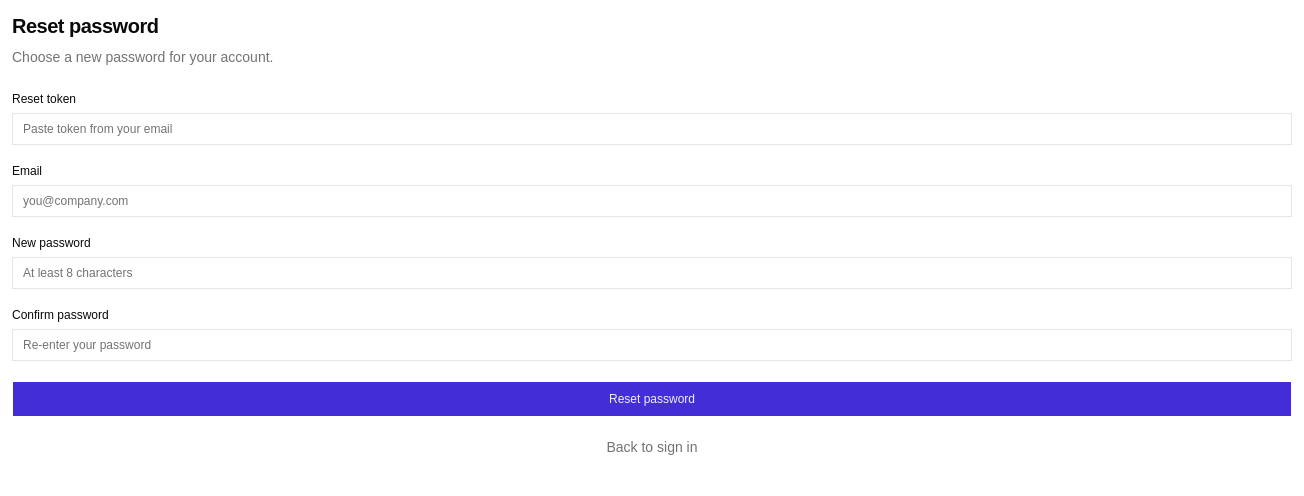
ResetPasswordPage › shows validation error when passwords do not match
Type "reset-token" into the field labelled "Reset token" at [652, 129], box [12,113,1292,145]
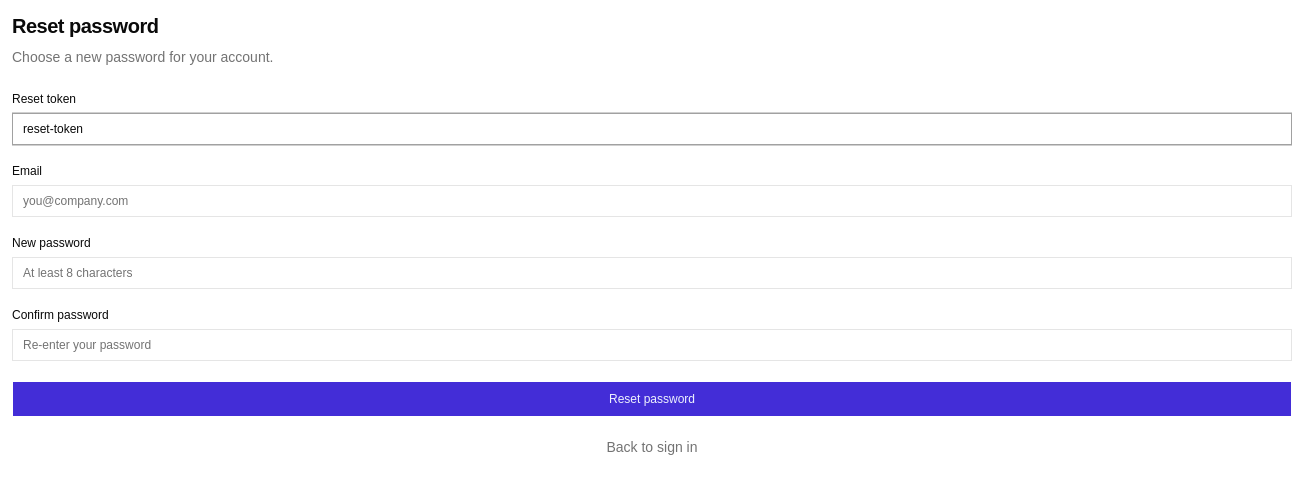
Type "jane@example.com" into the field labelled "Email" at [652, 201], box [12,185,1292,217]
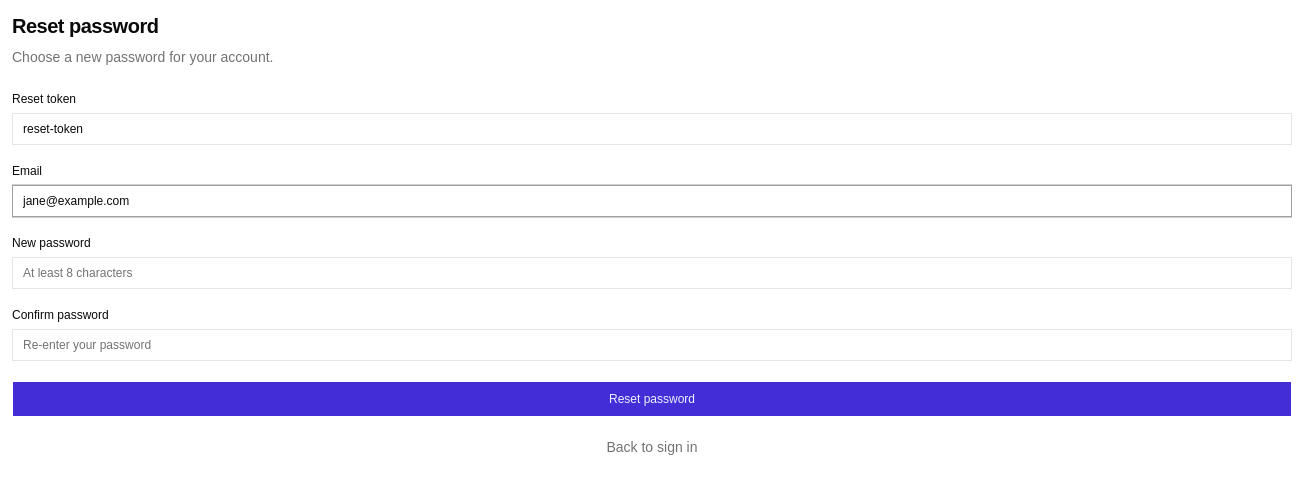
Type "password123" into the password field labelled "New password" at [652, 273], box [12,257,1292,289]
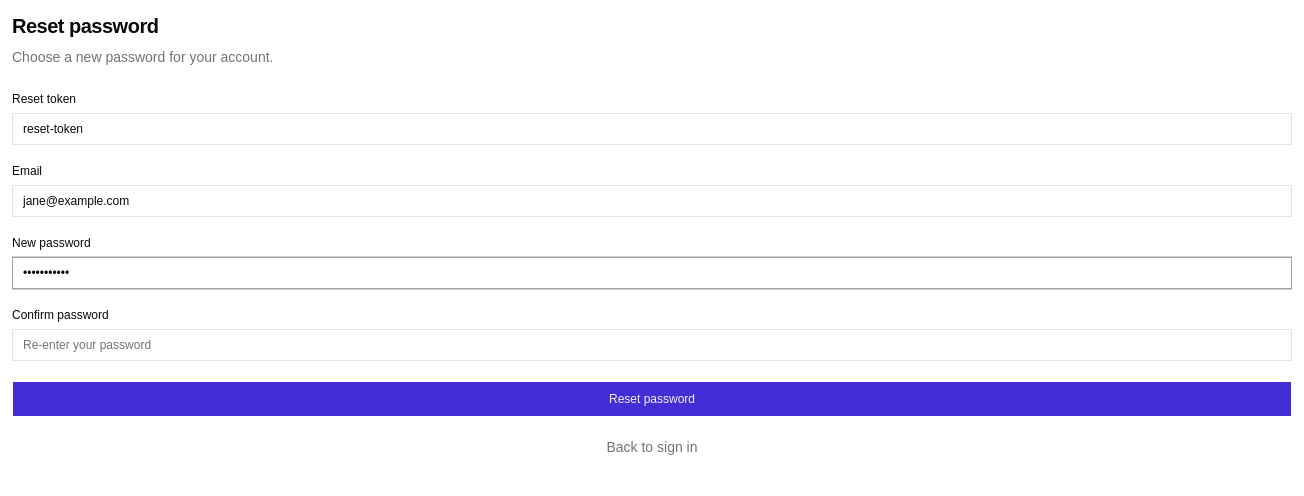
Type "different" into the password field labelled "Confirm password" at [652, 345], box [12,329,1292,361]
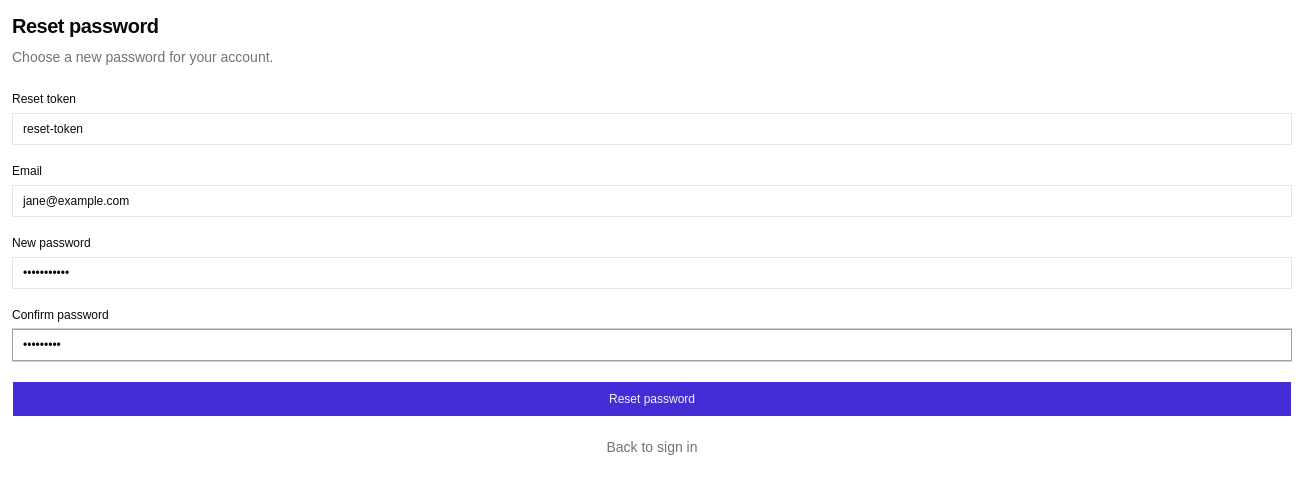
Click the button "Reset password" at [652, 399], box [12,381,1292,417]
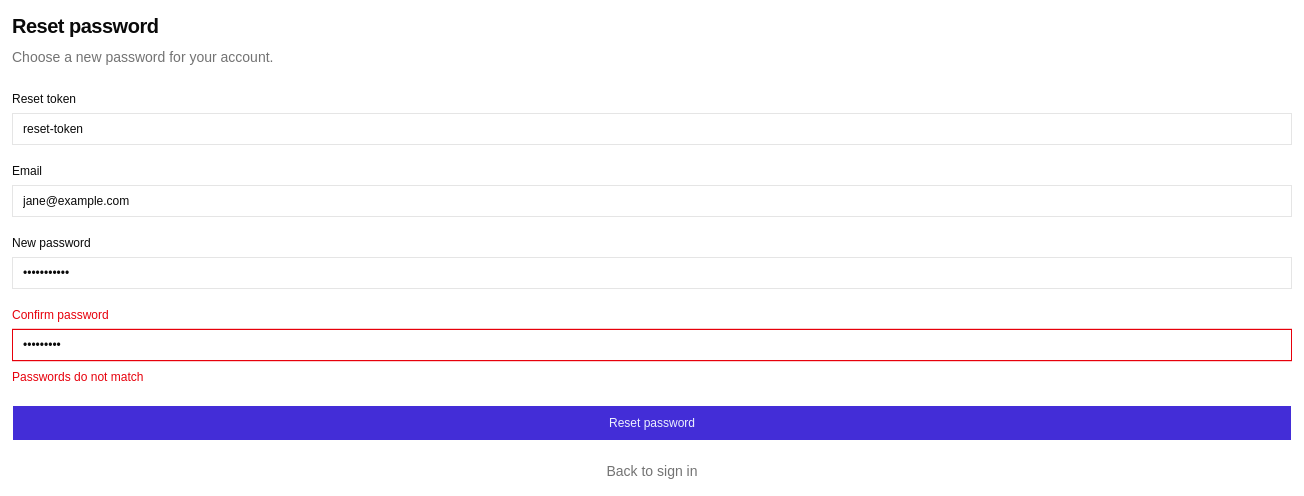
Result: the text "Passwords do not match" is shown at [12,370,143,384]
